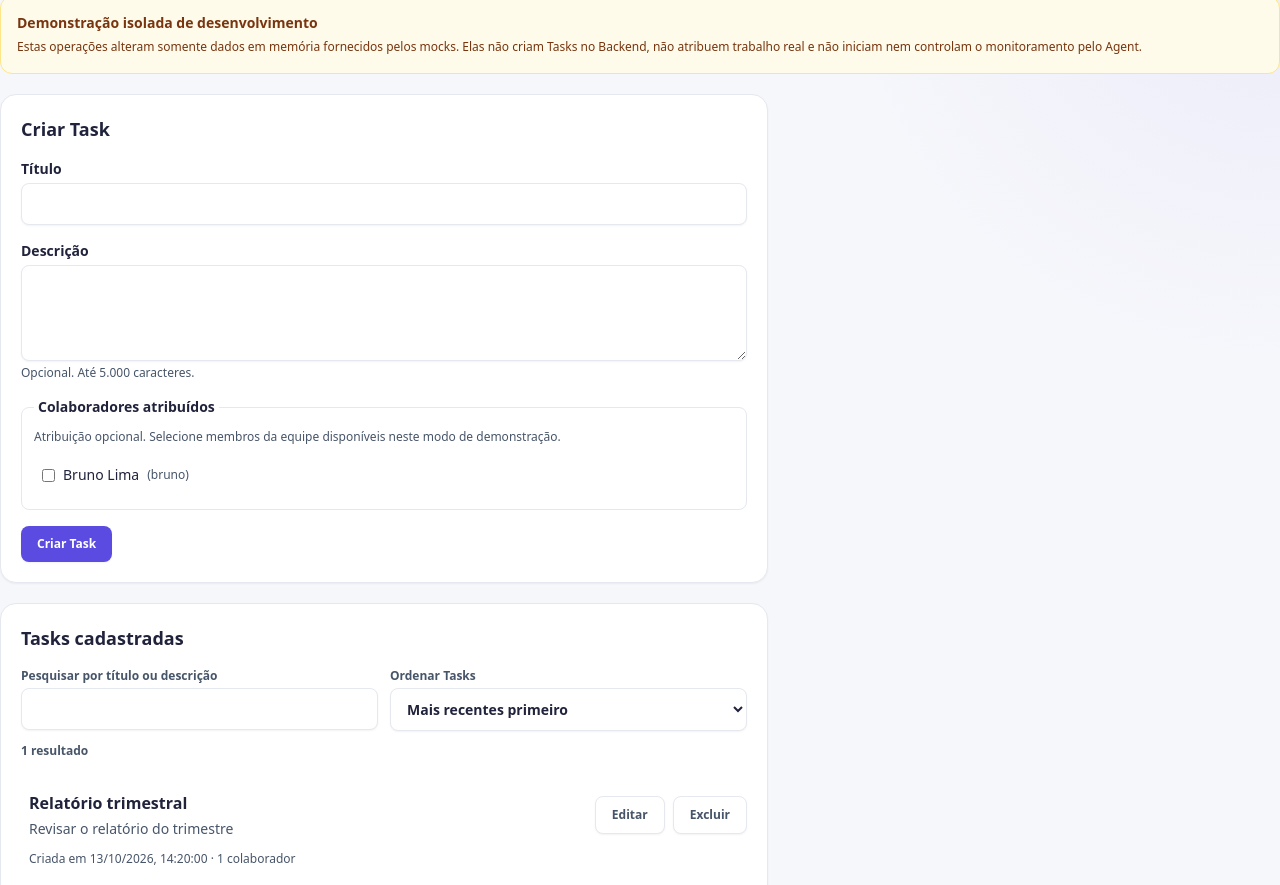
Scenario: TasksPage › remove do formulário uma atribuição desconhecida e não a envia como válida
(page scrolled)
Click the button with aria-label "Editar Task: Relatório trimestral".
click(630, 815)  # box top-left (595, 796), bottom-right (665, 834)
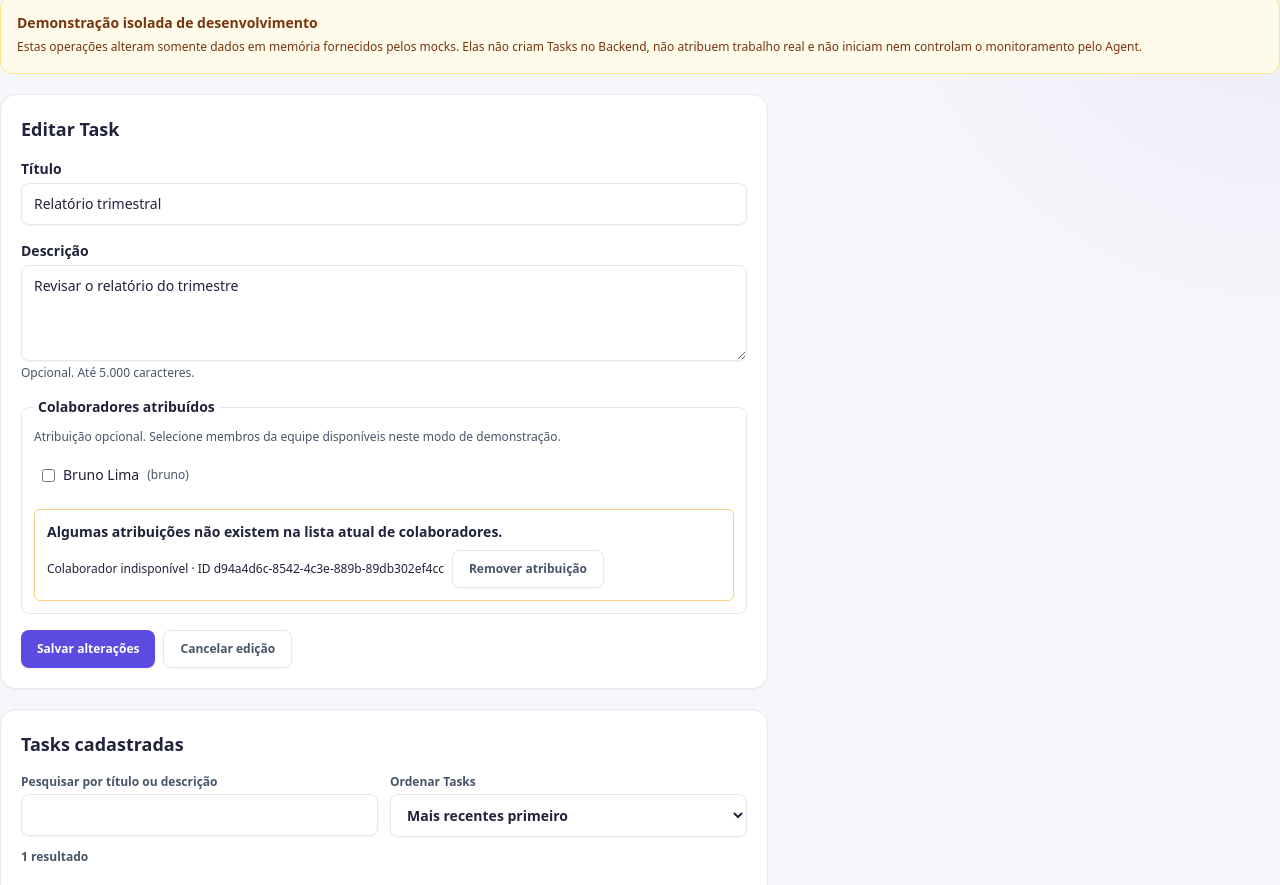
Click the button "Salvar alterações".
click(88, 649)  # box top-left (21, 630), bottom-right (156, 668)
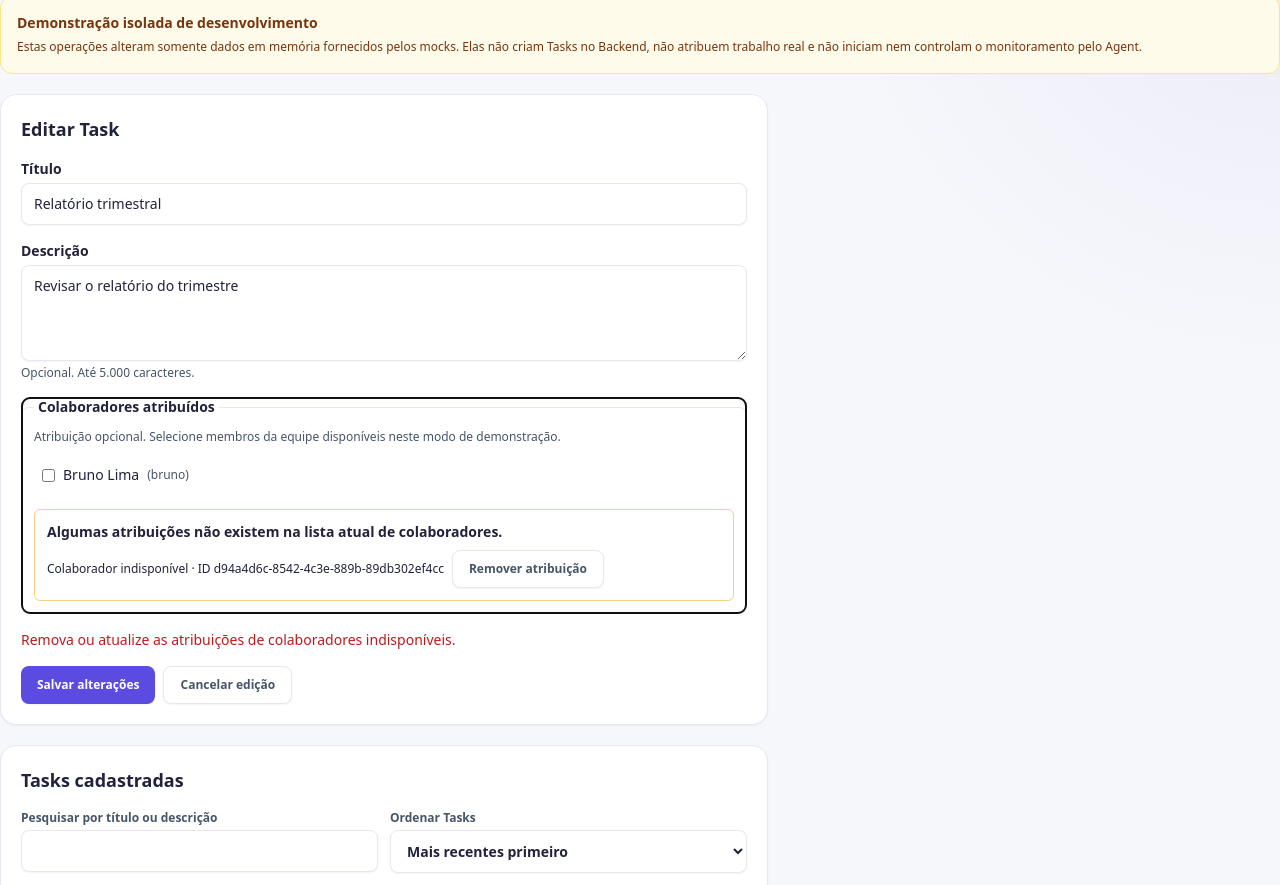
Result: the message "Remova ou atualize as atribuições de colaboradores indisponíveis." is shown at top-left (21, 630), bottom-right (456, 649)
Click the button "Remover atribuição".
click(528, 569)  # box top-left (452, 550), bottom-right (604, 588)
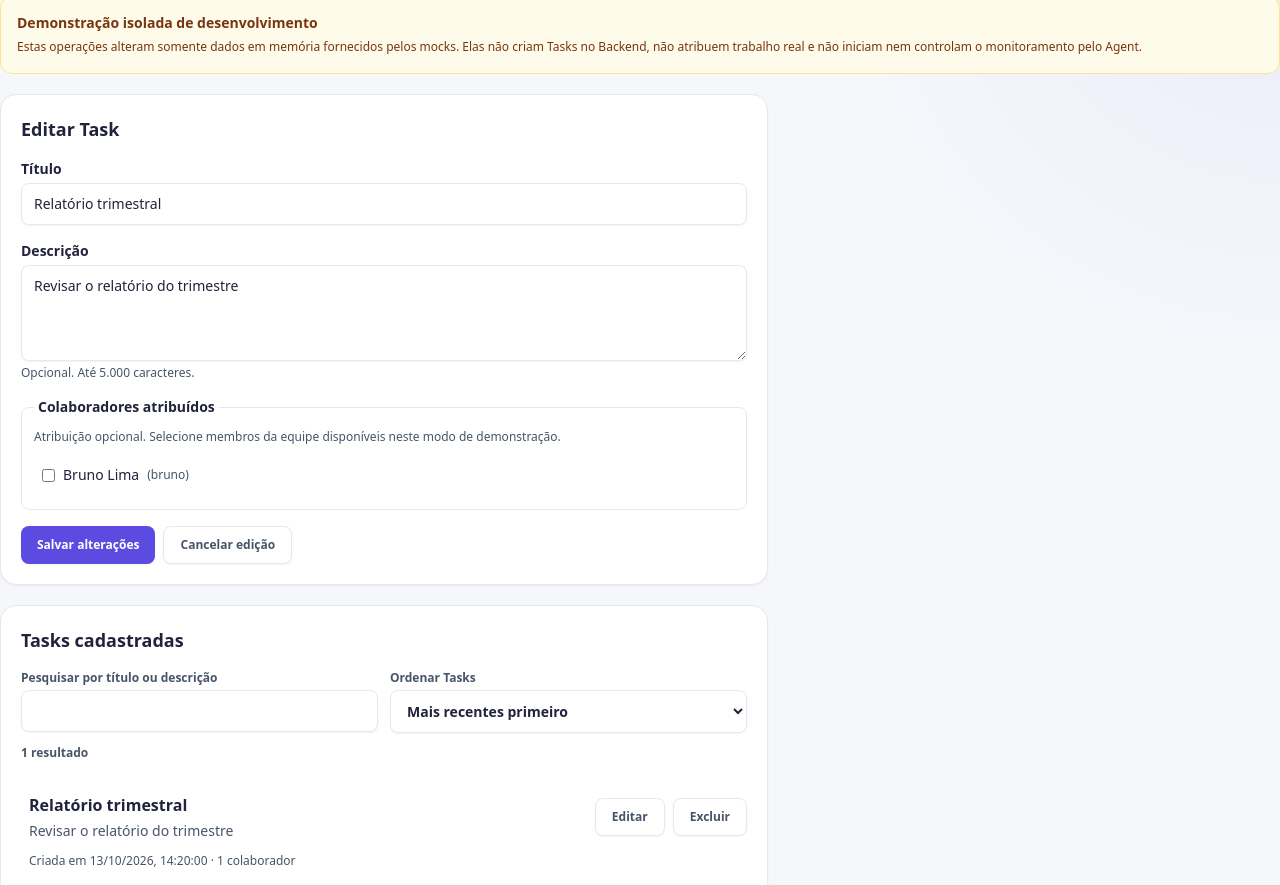
Click the checkbox labelled "Bruno Lima (bruno)".
click(48, 475)  # box top-left (42, 468), bottom-right (55, 482)
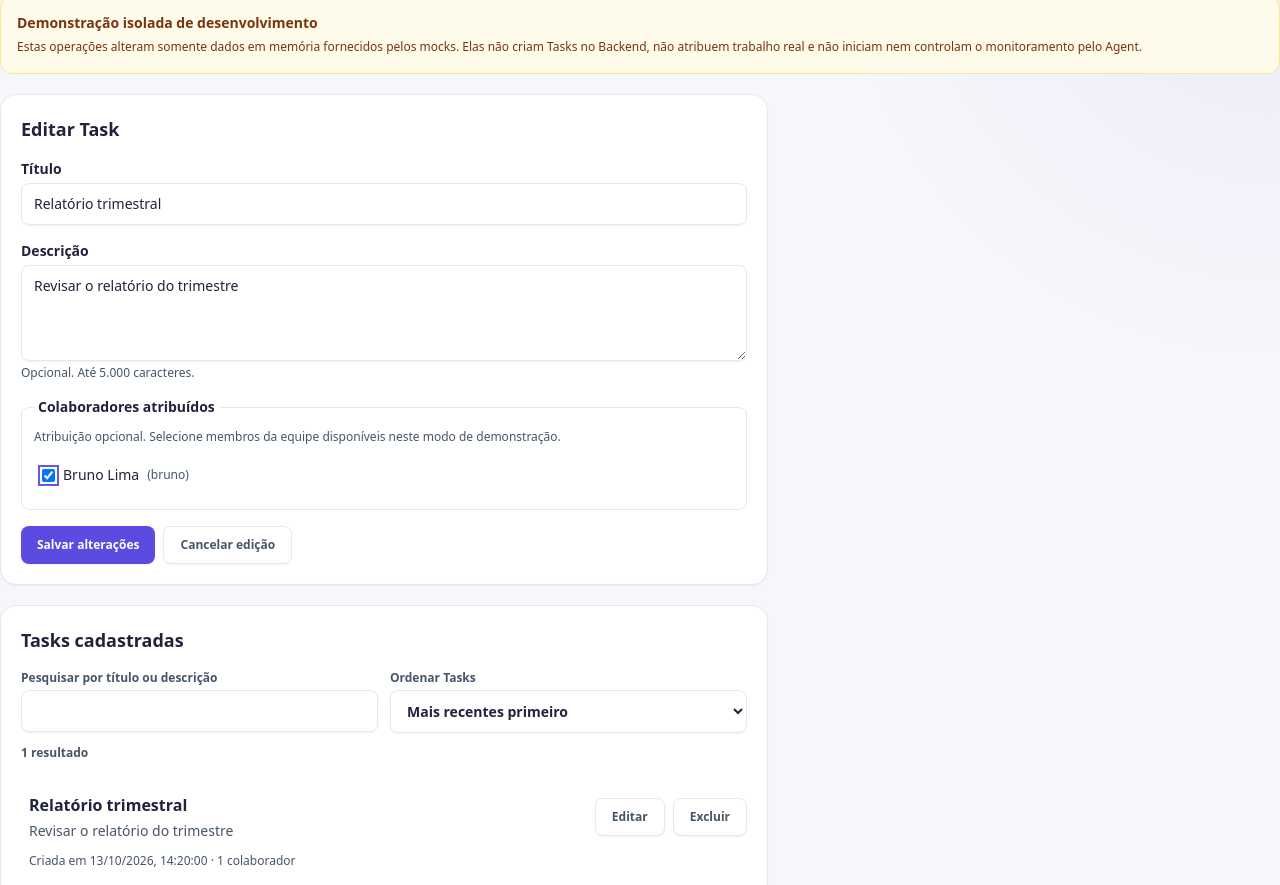
Click the button "Salvar alterações".
click(88, 545)  # box top-left (21, 526), bottom-right (156, 564)
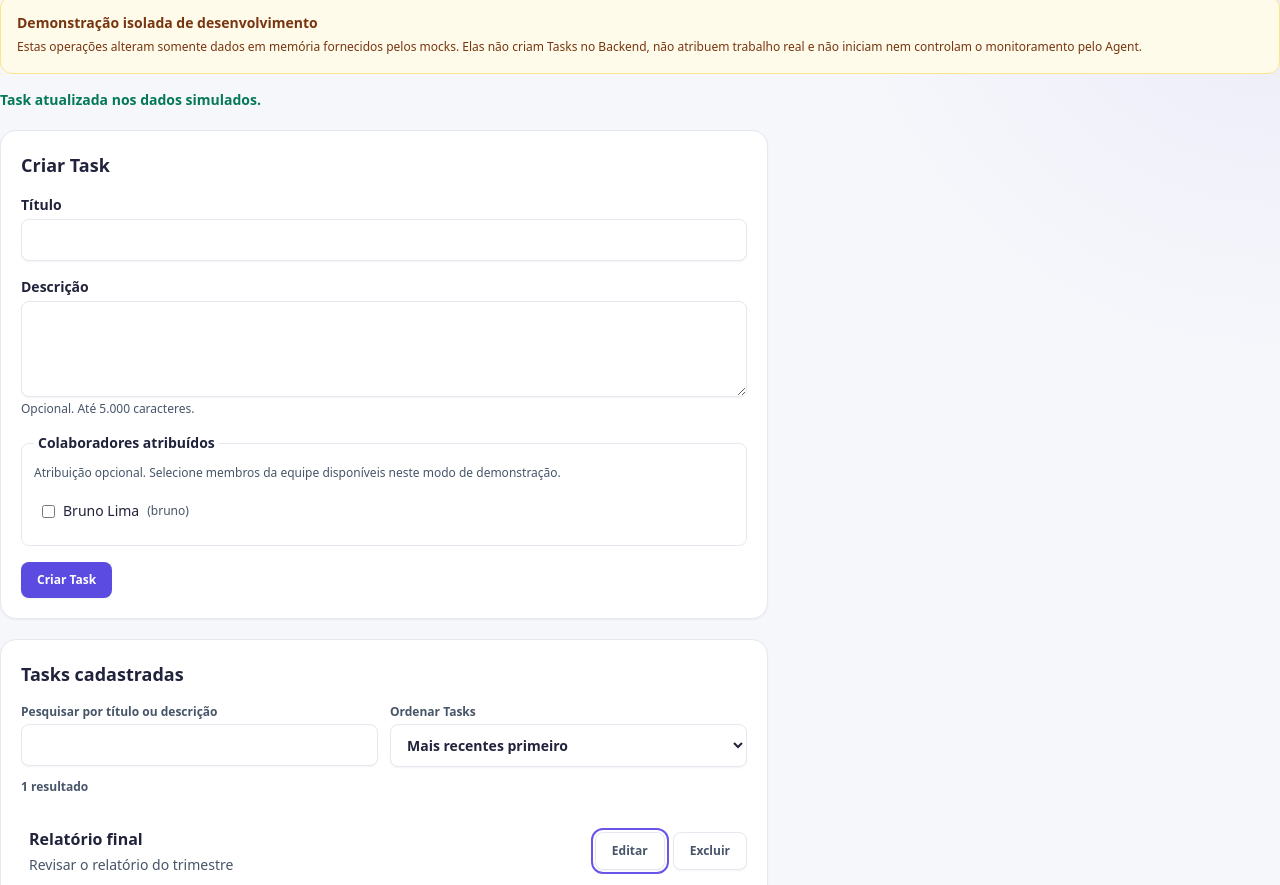
Result: the text "Task atualizada nos dados simulados." is shown at top-left (0, 90), bottom-right (261, 109)
